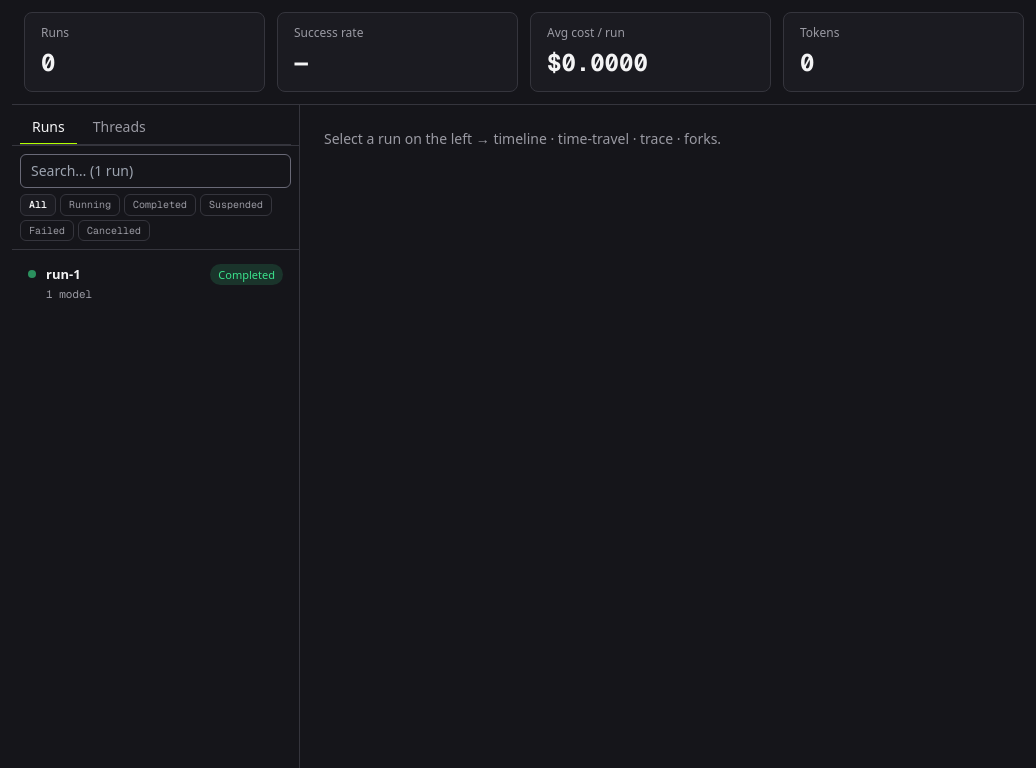
Test: Inspector — deep links (FLOW-07) and desktop selection recovery (FLOW-12) › FLOW-07: switching tabs writes ?tab= into the URL, and it is shareable/round-trips on a fresh mount
Click the text "run-1".
click(63, 274)  # box [46,264,81,284]
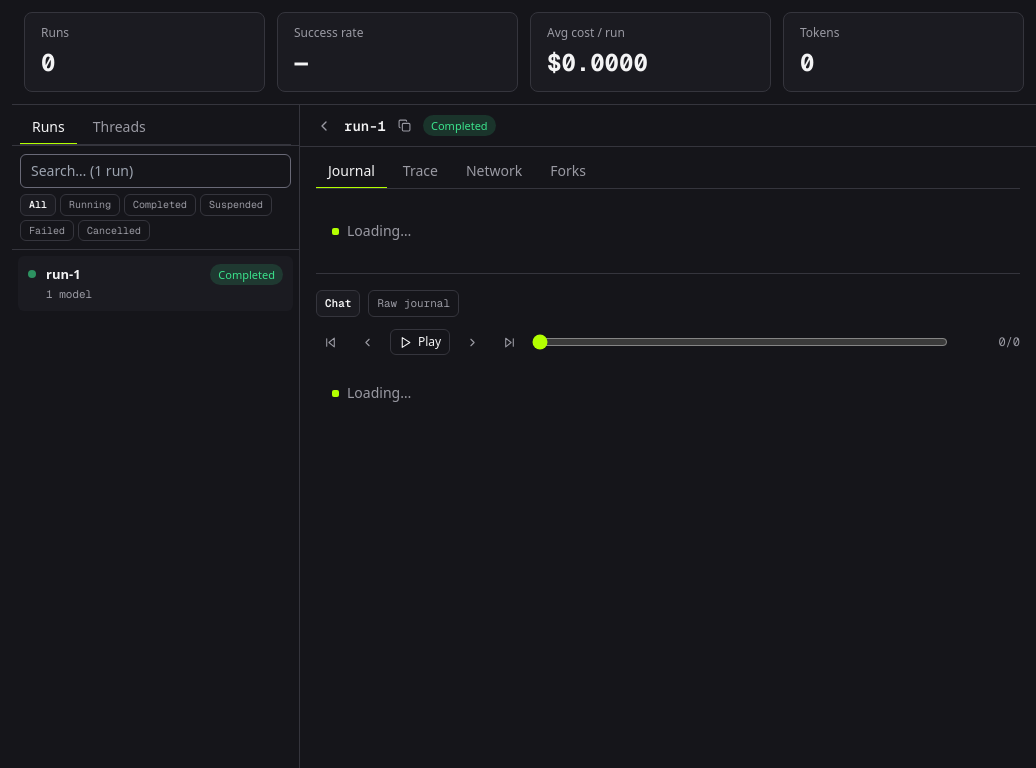
Click the tab "Trace".
click(420, 172)  # box [391,155,450,189]
(page scrolled)
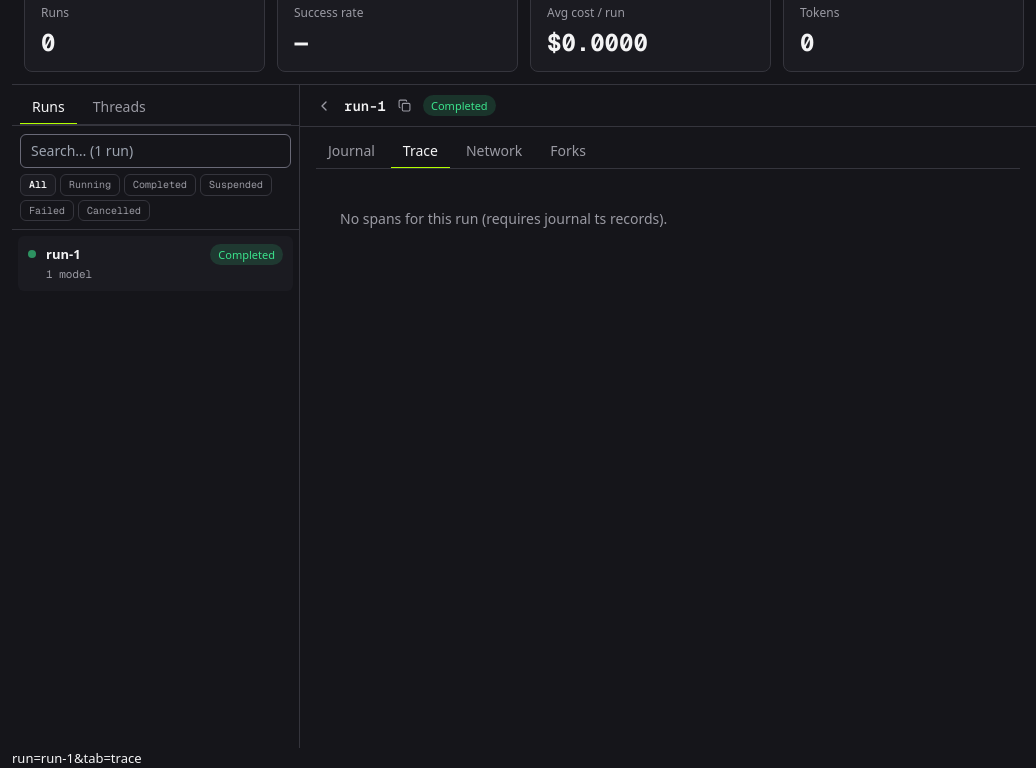
Check: the text with test id "search-probe" shows "run=run-1", box [12,749,142,767]
Check: the text with test id "search-probe" shows "tab=trace", box [12,749,142,767]
